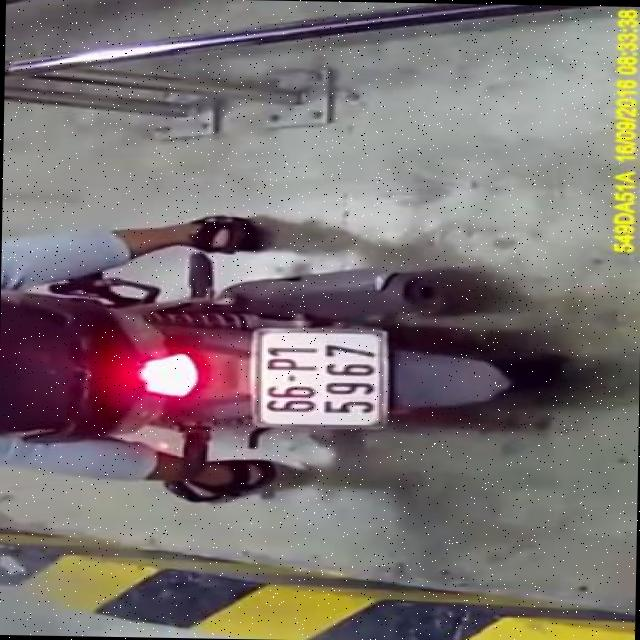license_plate: (247, 327, 393, 429)
